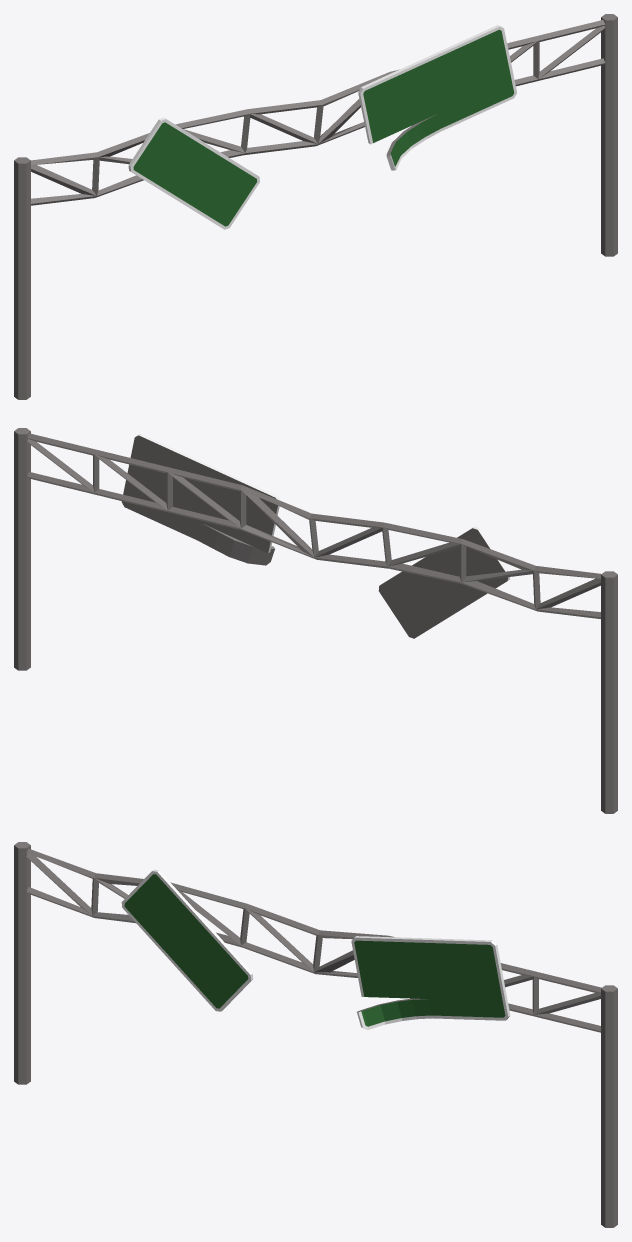
File: apocalypse_mainroad-sign-green-apocalypse-a.fbx
3 renders of one model, top to bottom at view 1: azimuth 30°, elevation 25°; view 2: azimuth 150°, elevation 25°; view 3: azimuth 330°, elevation 25°, orthographic.
Parts seen in each view (by area): view 1: apocalypse_mainroad_sign_green_apocalypse_a; view 2: apocalypse_mainroad_sign_green_apocalypse_a; view 3: apocalypse_mainroad_sign_green_apocalypse_a.
Part boxes in pixels (box(x1,y1,x2,y2)): apocalypse_mainroad_sign_green_apocalypse_a: box(14, 14, 617, 399); apocalypse_mainroad_sign_green_apocalypse_a: box(14, 428, 617, 813); apocalypse_mainroad_sign_green_apocalypse_a: box(14, 842, 617, 1227).
Size of the model in its own units: 200 by 82.26 by 11.73.
